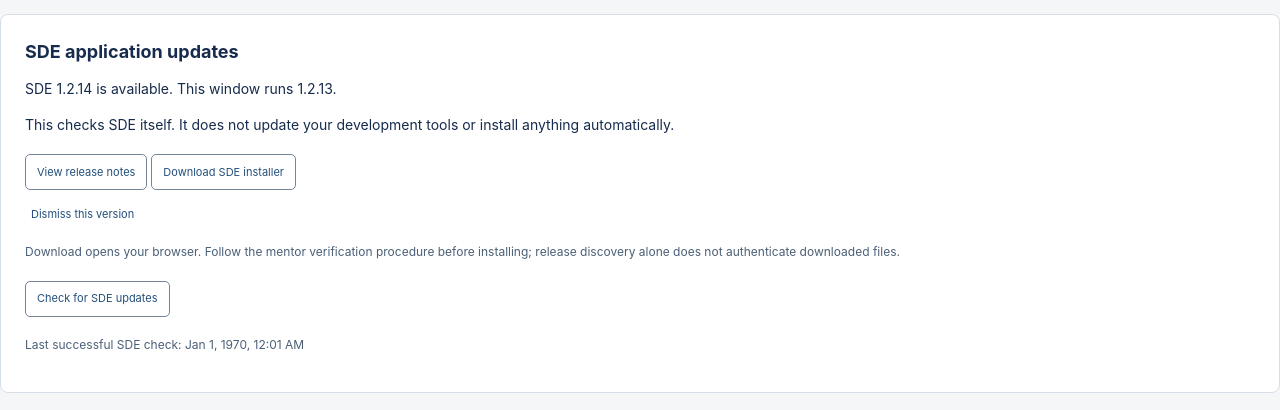
Scenario: a failed request clears an old download offer without claiming current
Expected: the button "Download SDE installer" is shown, [151, 154, 296, 190]
Click the button "Check for SDE updates" at (97, 299), box [25, 281, 170, 317]
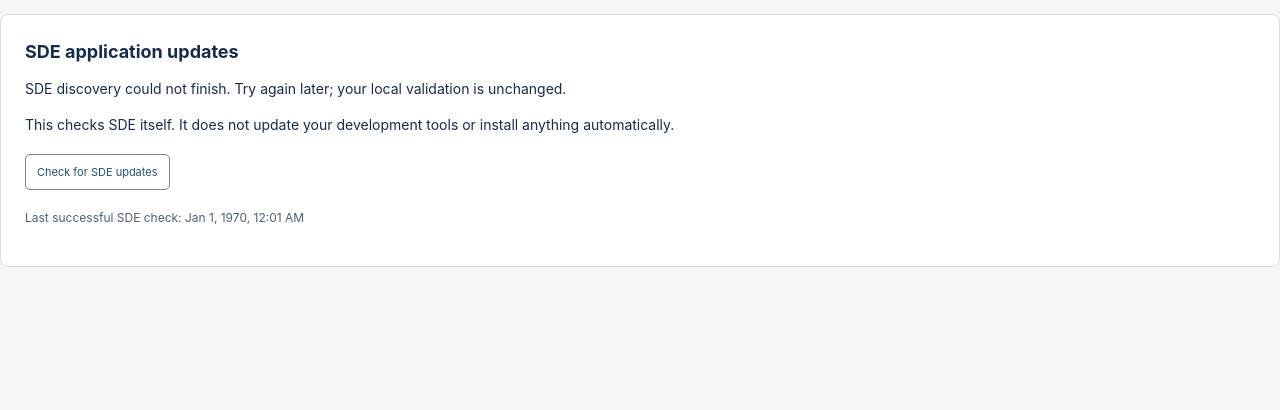
Now the text "SDE discovery could not finish" is shown, box [25, 80, 566, 97]
Now the button "Download SDE installer" is gone
